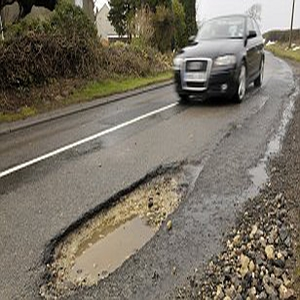pothole: (42, 157, 203, 300)
